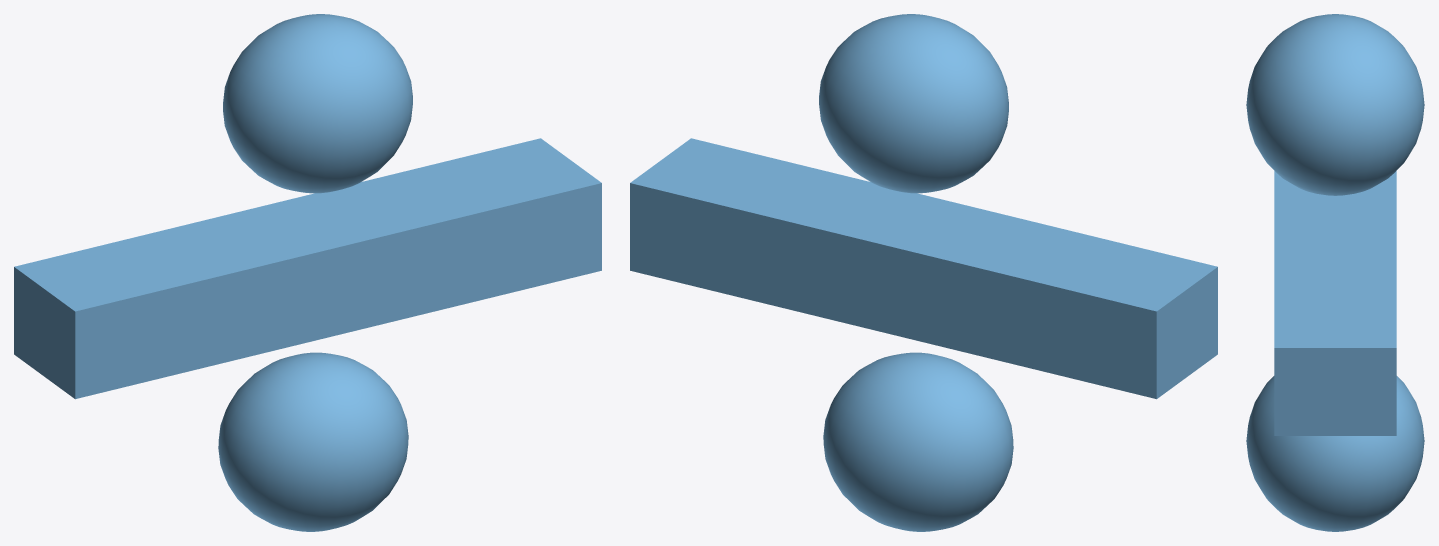
The model's file is dividez.fbx.
3 renders of one model, left to right at view 1: azimuth 30°, elevation 25°; view 2: azimuth 150°, elevation 25°; view 3: azimuth 270°, elevation 25°, orthographic.
Parts seen in each view (by area): view 1: Divide; view 2: Divide; view 3: Divide.
Boxes of the visible parts, box(x1,y1,x2,y2) form: Divide: box(14, 14, 601, 531); Divide: box(630, 14, 1217, 531); Divide: box(1246, 14, 1424, 531).
Bounding box in the file's own units: 7.46 × 6.76 × 2.18.
